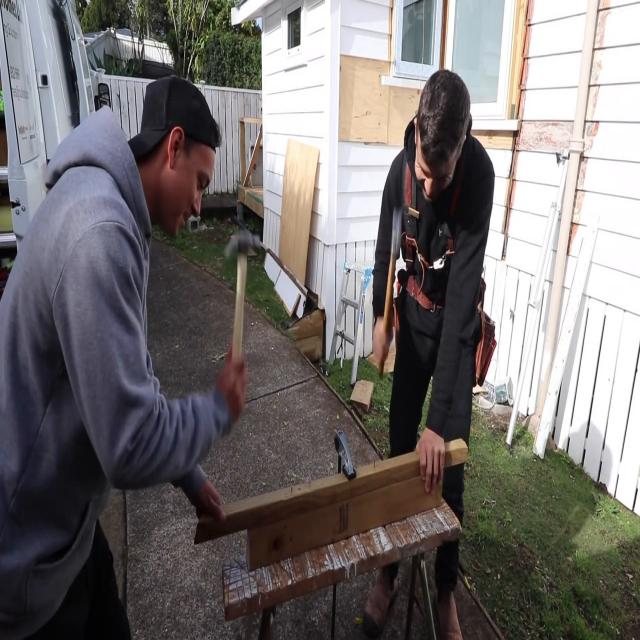hammer: (225, 232, 268, 362)
